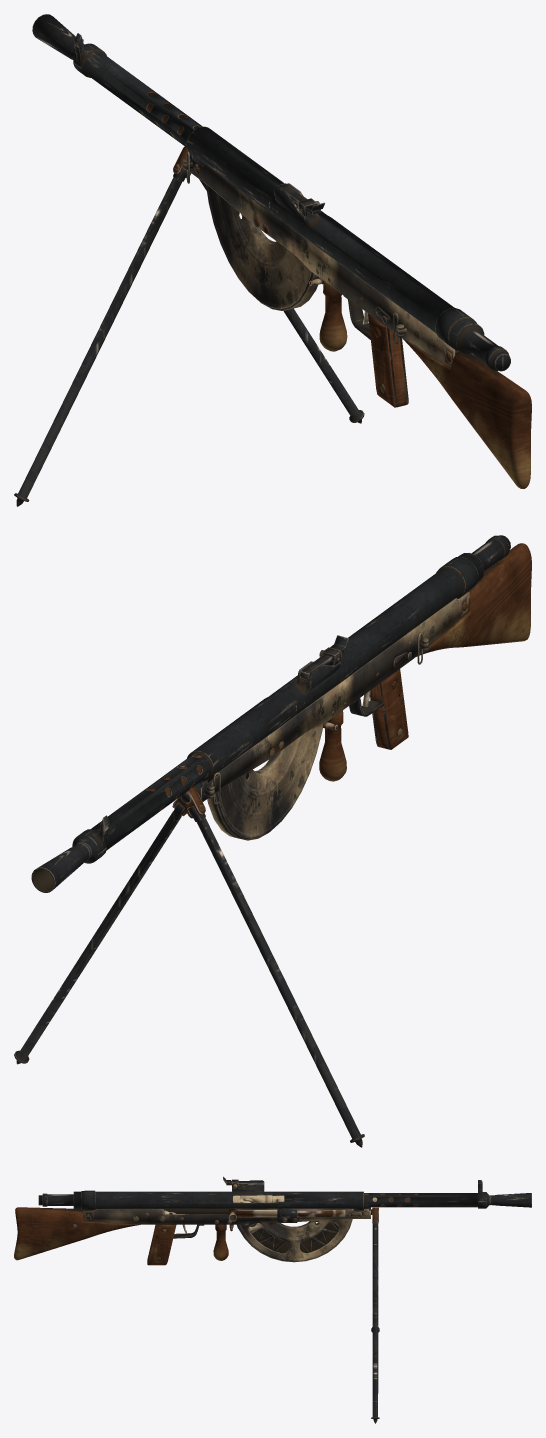
Rendered from chauchat_machine_gun.glb.
3 renders of one model, top to bottom at view 1: azimuth 30°, elevation 25°; view 2: azimuth 150°, elevation 25°; view 3: azimuth 270°, elevation 25°, orthographic. The views are drawn at different scales.
Visible parts, largest first — view 1: Chauchat; view 2: Chauchat; view 3: Chauchat.
Boxes of the visible parts, x1=… form: Chauchat: x1=14, y1=14, x2=531, y2=506; Chauchat: x1=14, y1=535, x2=531, y2=1147; Chauchat: x1=14, y1=1176, x2=531, y2=1423.
Bounding box in the file's own units: 0.6382 × 0.6449 × 1.53.
Materials: 1 (1 with a texture image).
